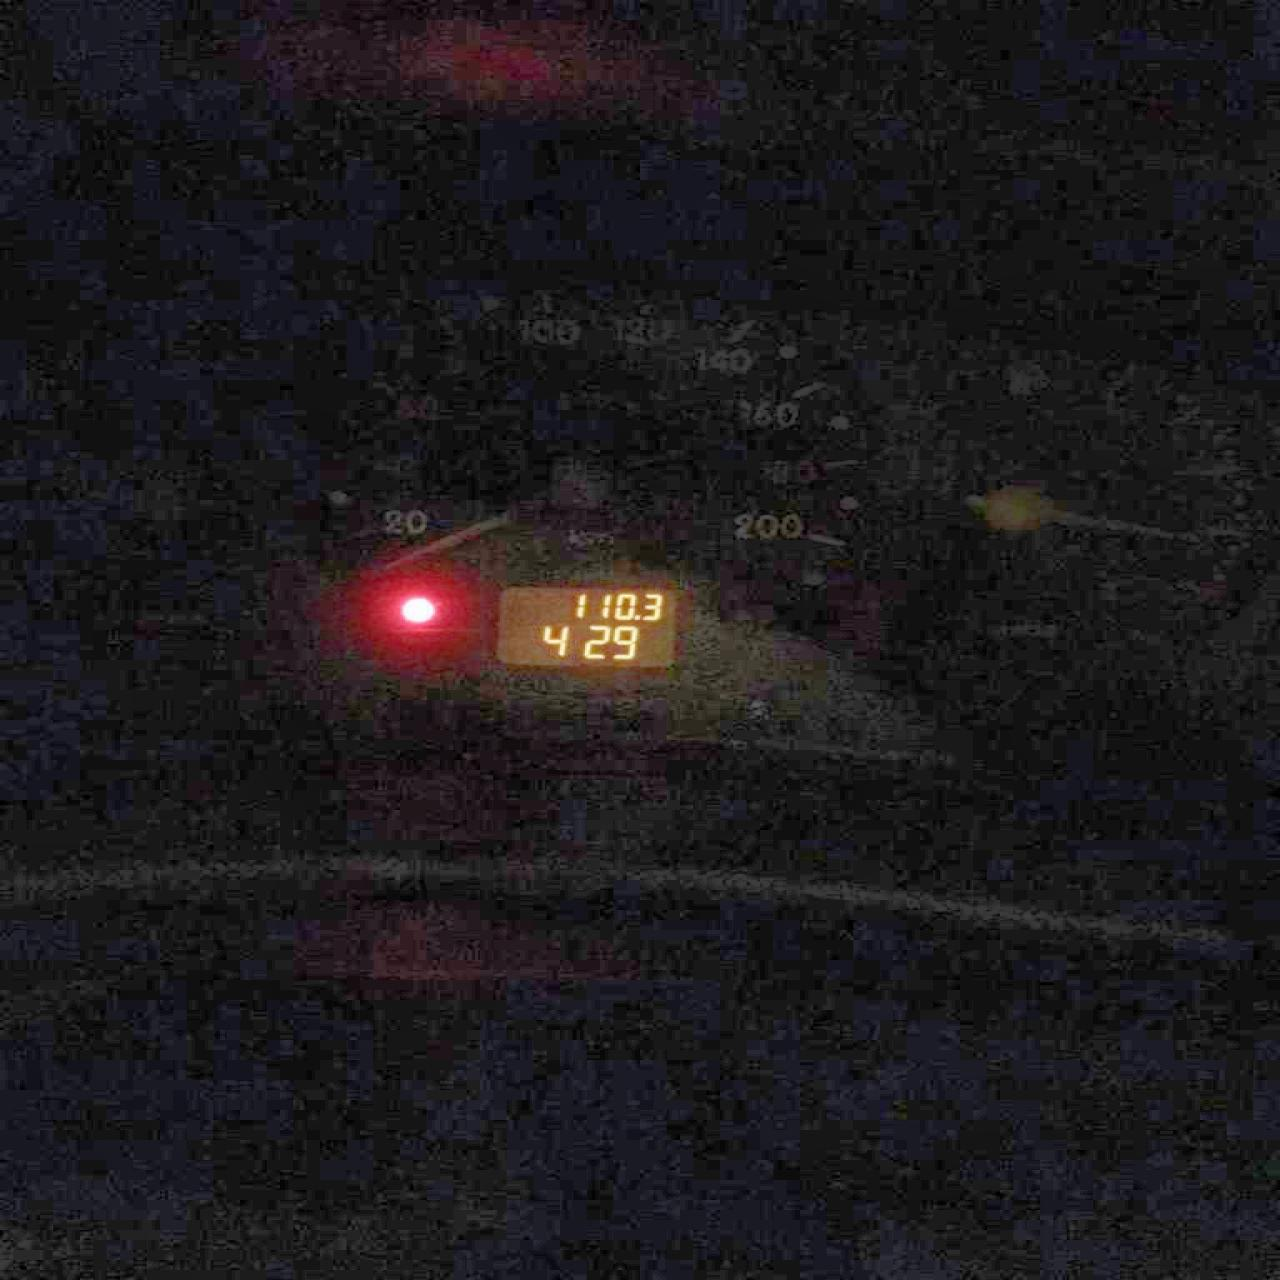-: (632, 612, 640, 620)
0: (612, 592, 635, 620)
1: (598, 592, 610, 619), (573, 592, 585, 618)
2: (581, 624, 608, 659)
3: (640, 592, 660, 620)
4: (540, 625, 567, 656)
9: (611, 625, 636, 659)
odometer: (492, 585, 679, 669)
